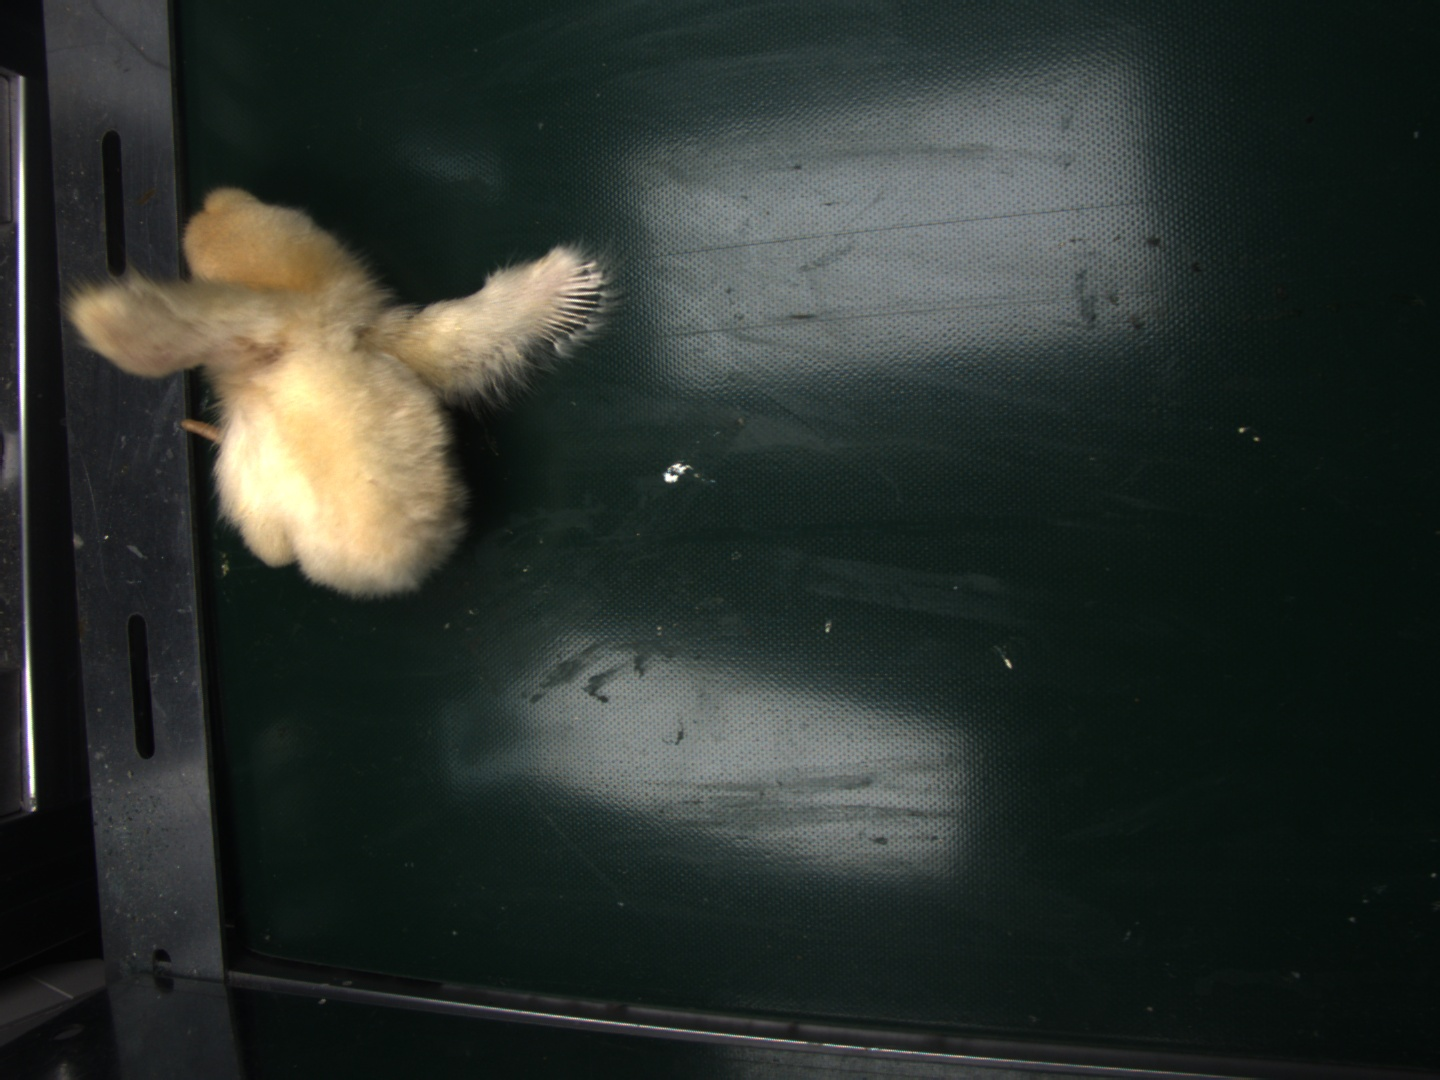male: (544, 256, 612, 341)
